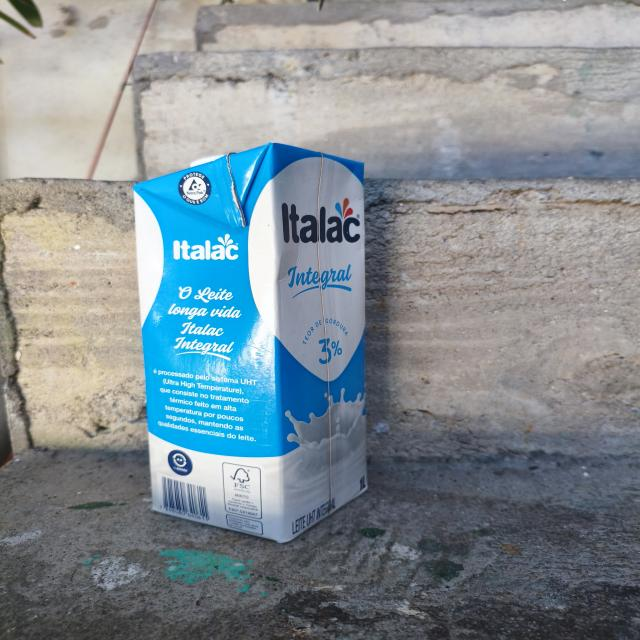Caixa de Leite: (131, 137, 387, 546)
